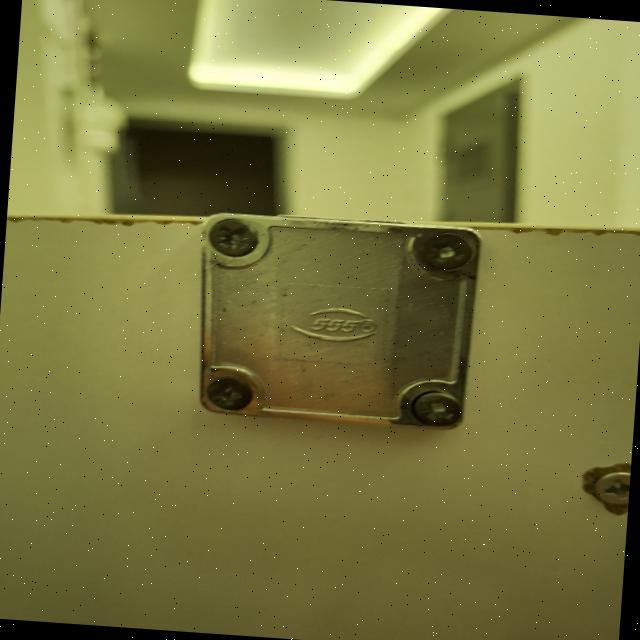Pozidriv: (208, 218, 262, 264), (417, 231, 474, 271), (414, 394, 456, 428), (208, 380, 250, 411)
